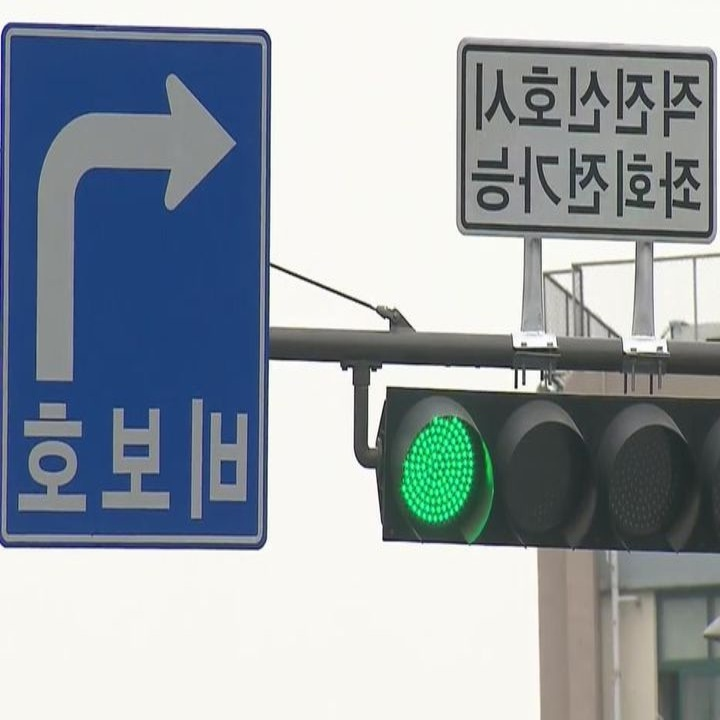right: (25, 62, 244, 385)
